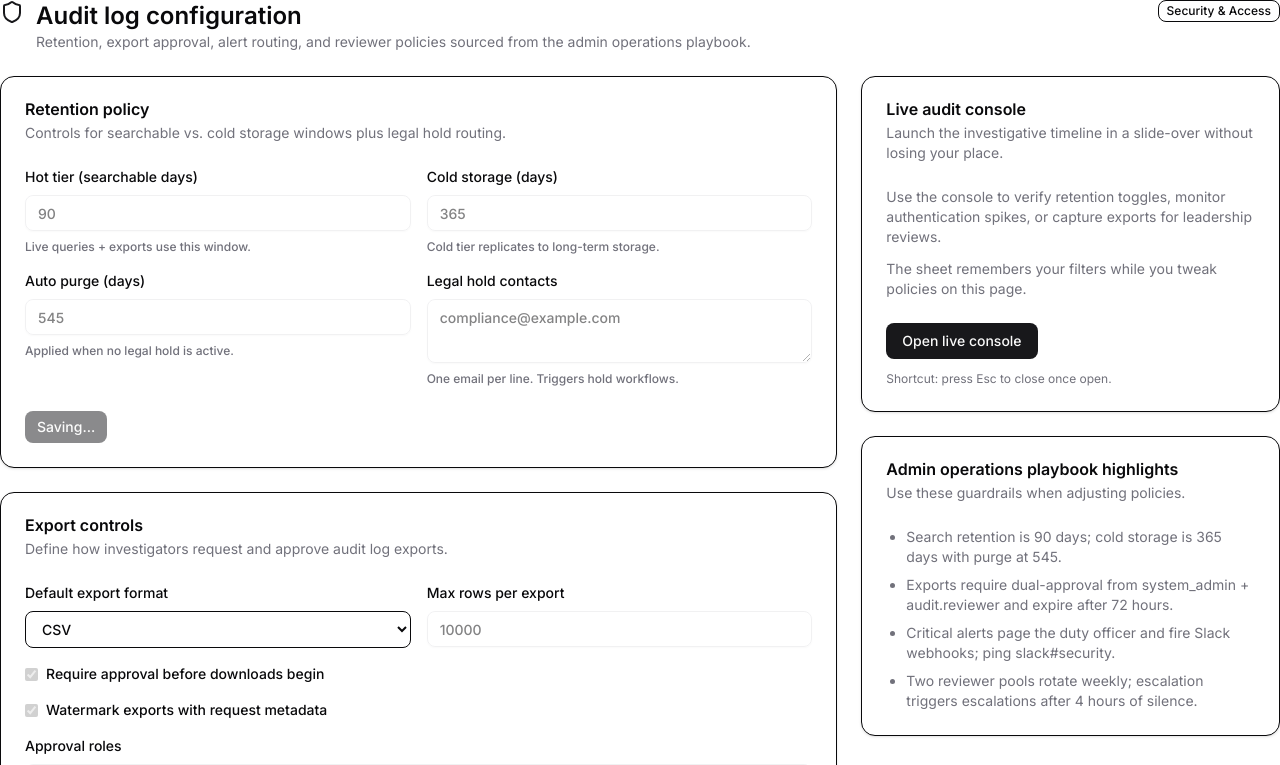
Test case: SecurityAuditLogsSettingsPage › renders presets and timeline metrics
Click the button "Open live console" at (962, 341), box [886, 323, 1038, 359]
(page scrolled)
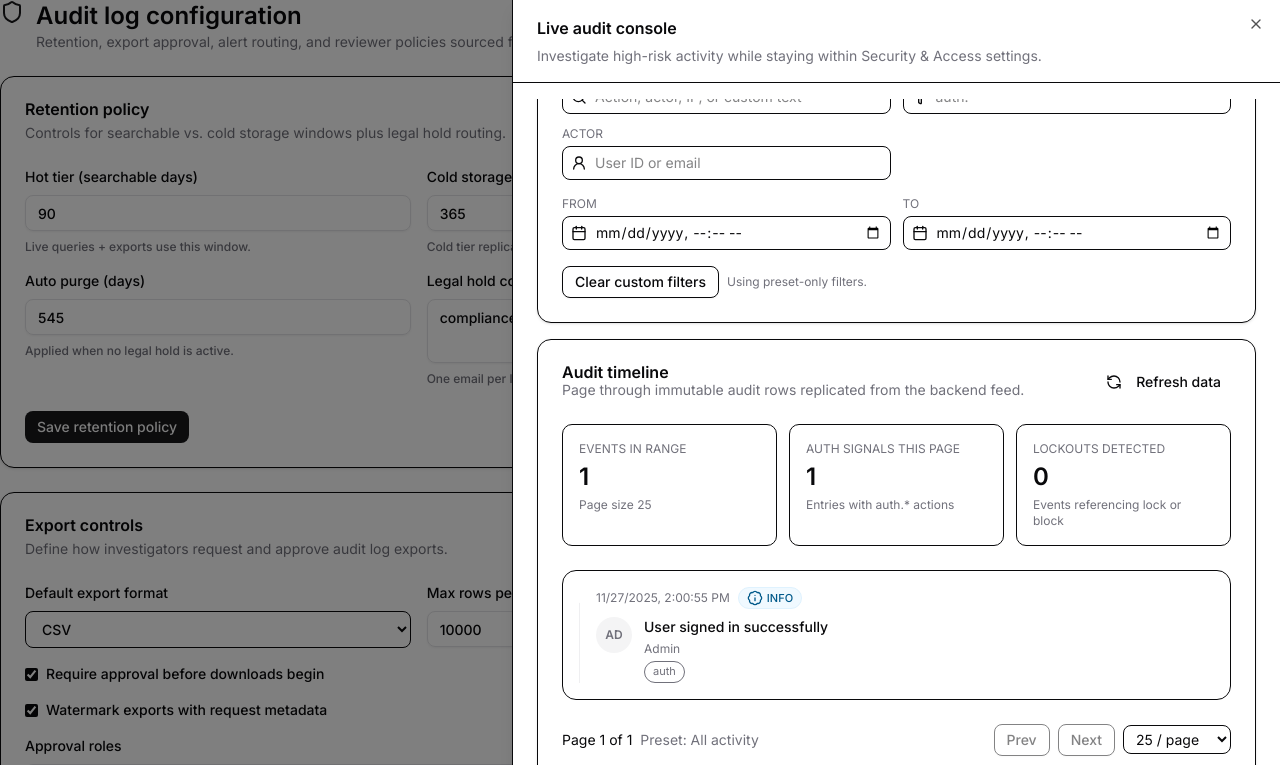
Check: the heading "Audit log configuration" is shown, box [36, 1, 302, 30]
Check: the text "Events in range" is shown, box [579, 441, 686, 456]
Check: the text "Auth signals this page" is shown, box [806, 441, 960, 456]
